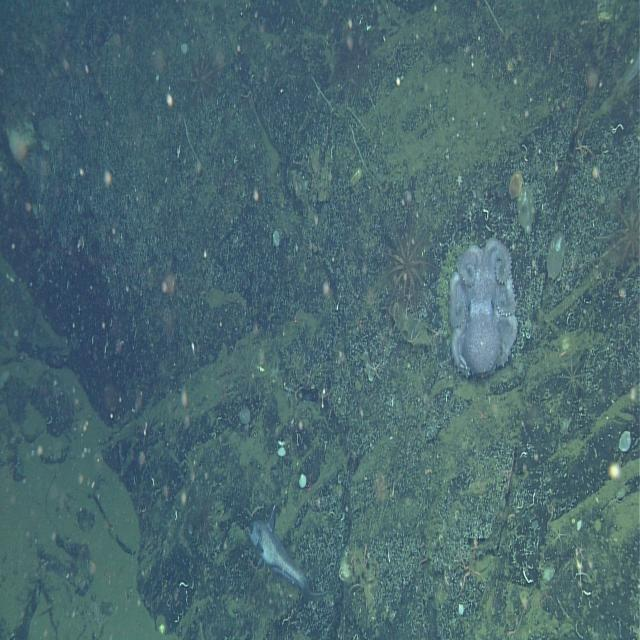Brittle Star: (451, 543, 491, 598), (569, 552, 593, 596), (572, 135, 594, 164), (552, 525, 567, 551)
